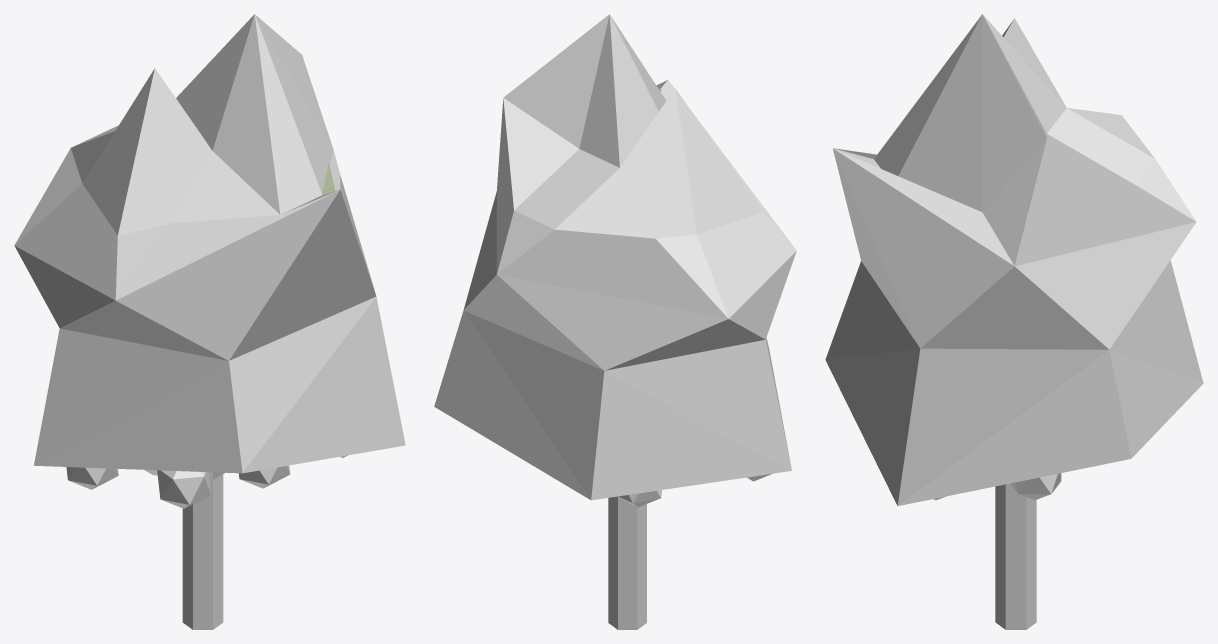
The model's file is resource__plant__fluit-bush__tall.fbx.
The picture shows the model from 3 angles, left to right: view 1: azimuth 30°, elevation 25°; view 2: azimuth 150°, elevation 25°; view 3: azimuth 270°, elevation 25°; orthographic projection. The views are drawn at different scales.
Parts seen in each view (by area): view 1: FluitBushTall; view 2: FluitBushTall; view 3: FluitBushTall.
Boxes of the visible parts, box(x1,y1,x2,y2) form: FluitBushTall: box(14, 14, 405, 629); FluitBushTall: box(434, 14, 796, 629); FluitBushTall: box(825, 14, 1203, 629).
Bounding box in the file's own units: 89.96 × 167 × 91.53.
